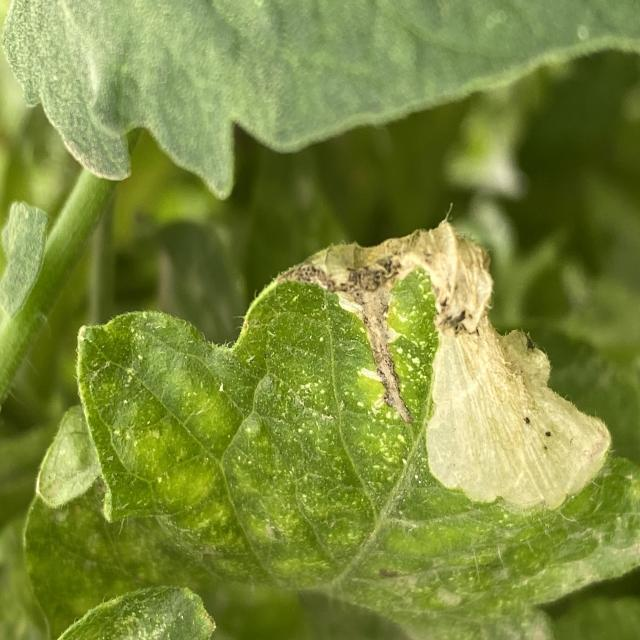Tuta absoluta: (299, 171, 630, 556)
